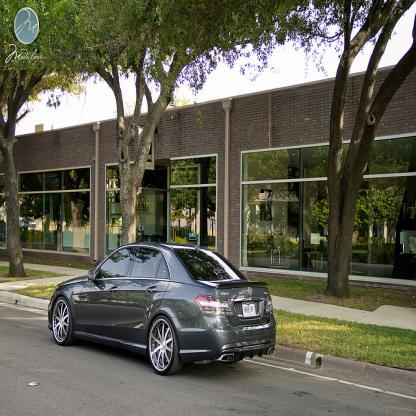Vehicle: (48, 242, 277, 377)
